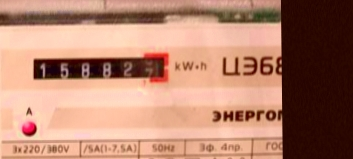1: (39, 60, 48, 76)
2: (123, 58, 133, 75)
5: (60, 60, 70, 76)
7: (145, 65, 154, 76)
8: (102, 59, 112, 77), (81, 61, 91, 77)
screen: (27, 47, 175, 87)
